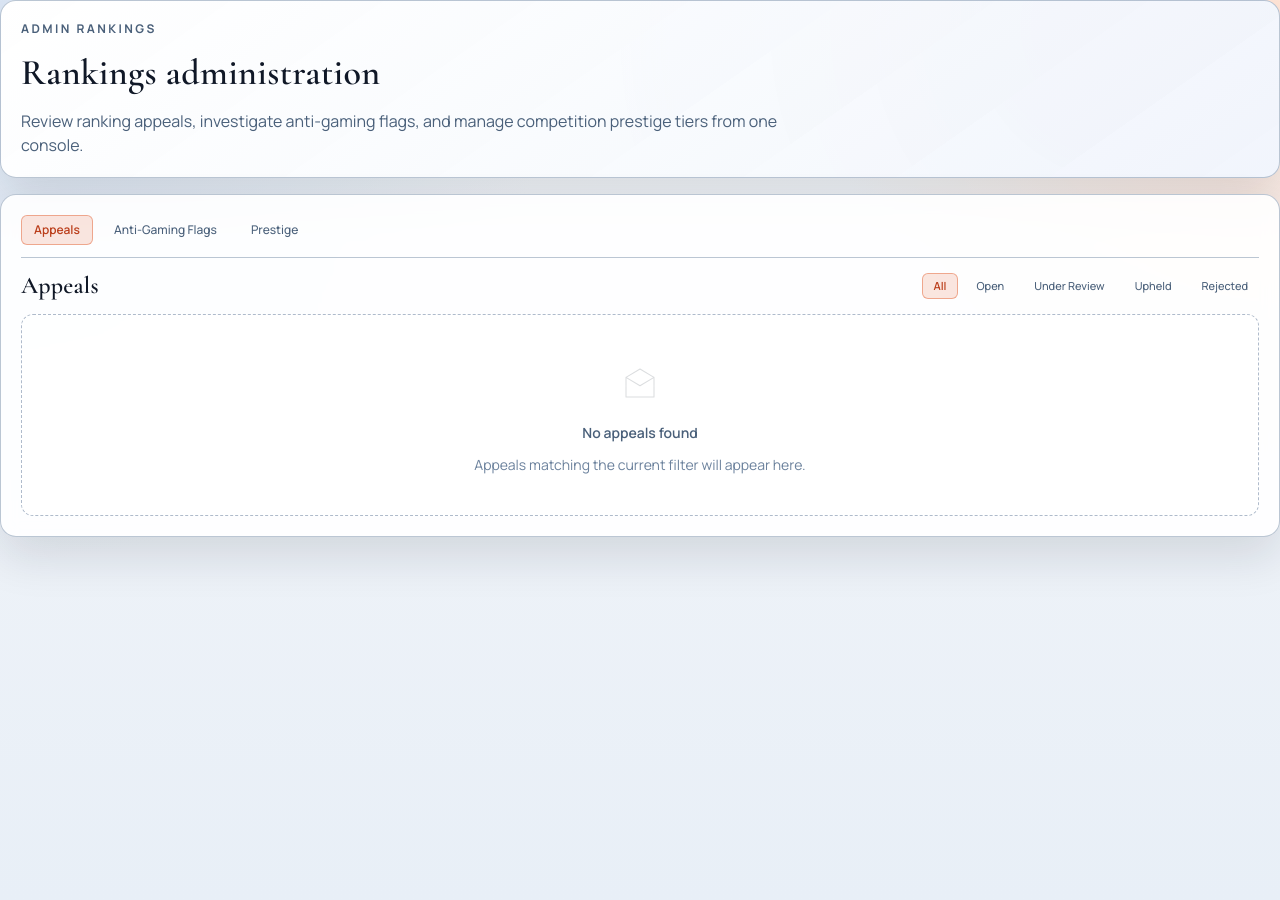
it: AdminRankingsPage › shows error toast when flag resolve fails (ApiError)
The image size is (1280, 900).
Check: the heading "Rankings administration" is shown, box [21, 51, 380, 94]
Click the button "Anti-Gaming Flags". click: (165, 230)
box: [101, 215, 230, 245]
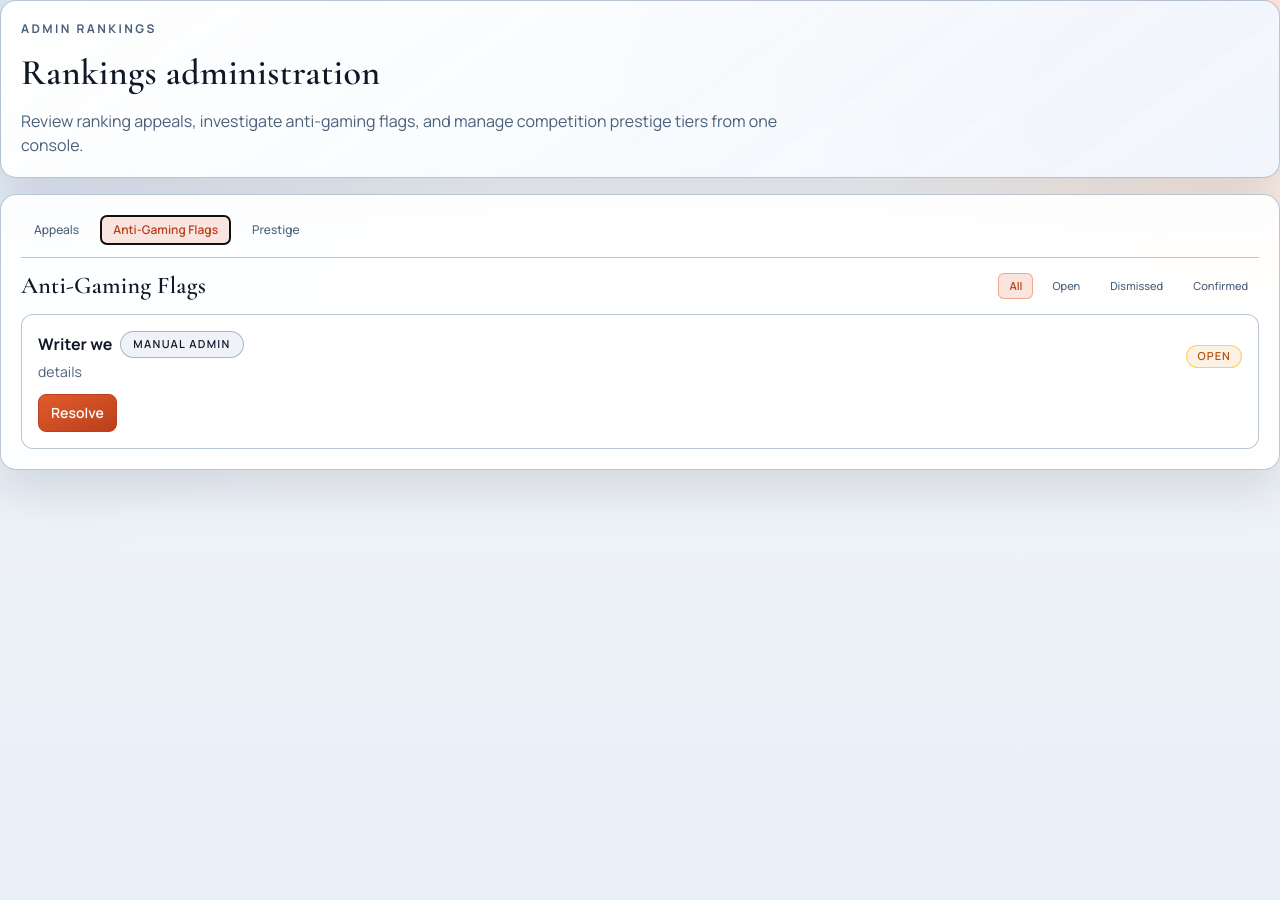
Check: the text "Manual Admin" is shown, box [120, 331, 244, 358]
Click the button "Resolve". click: (77, 412)
box: [38, 394, 117, 432]
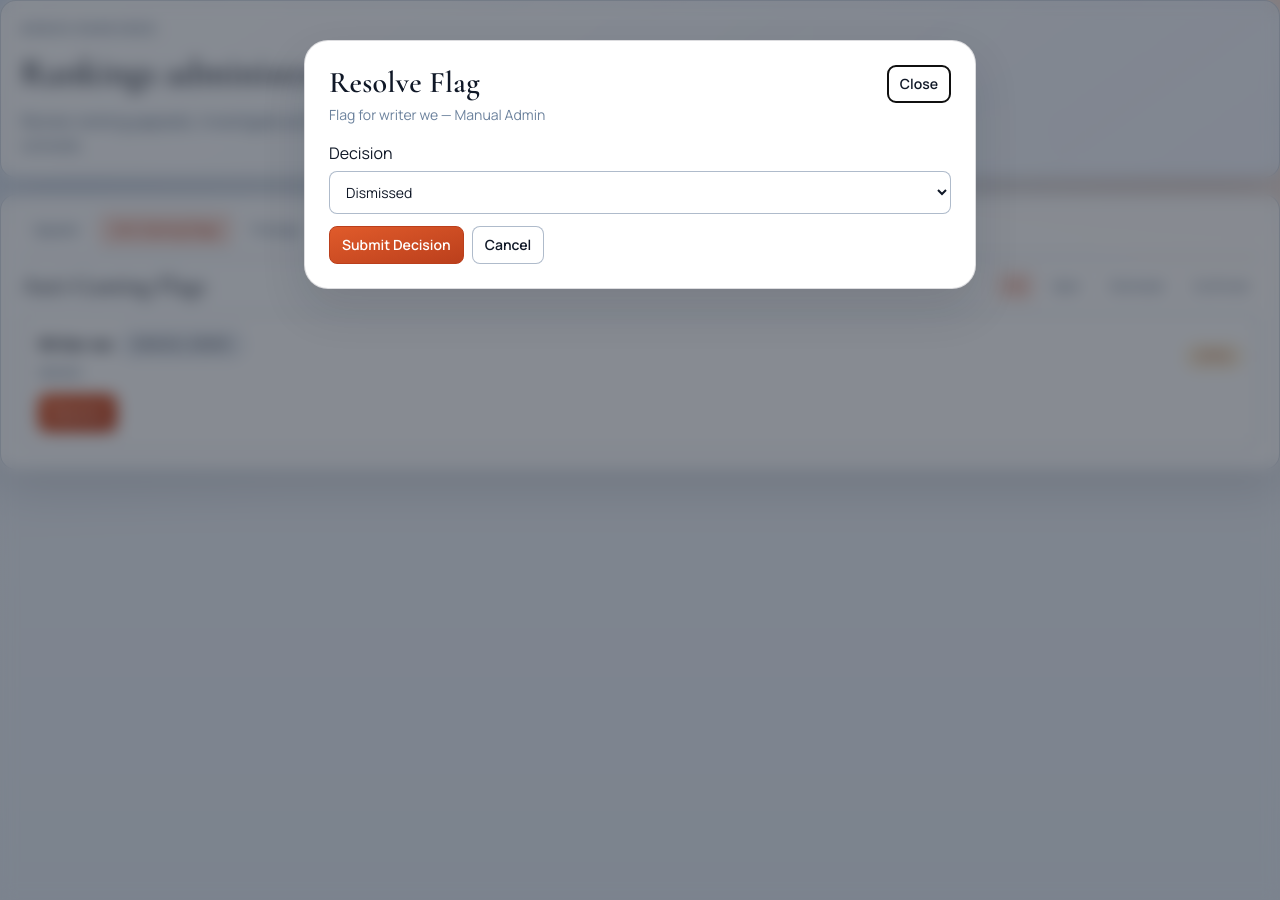
Click the button "Submit Decision". click: (396, 245)
box: [329, 226, 464, 264]
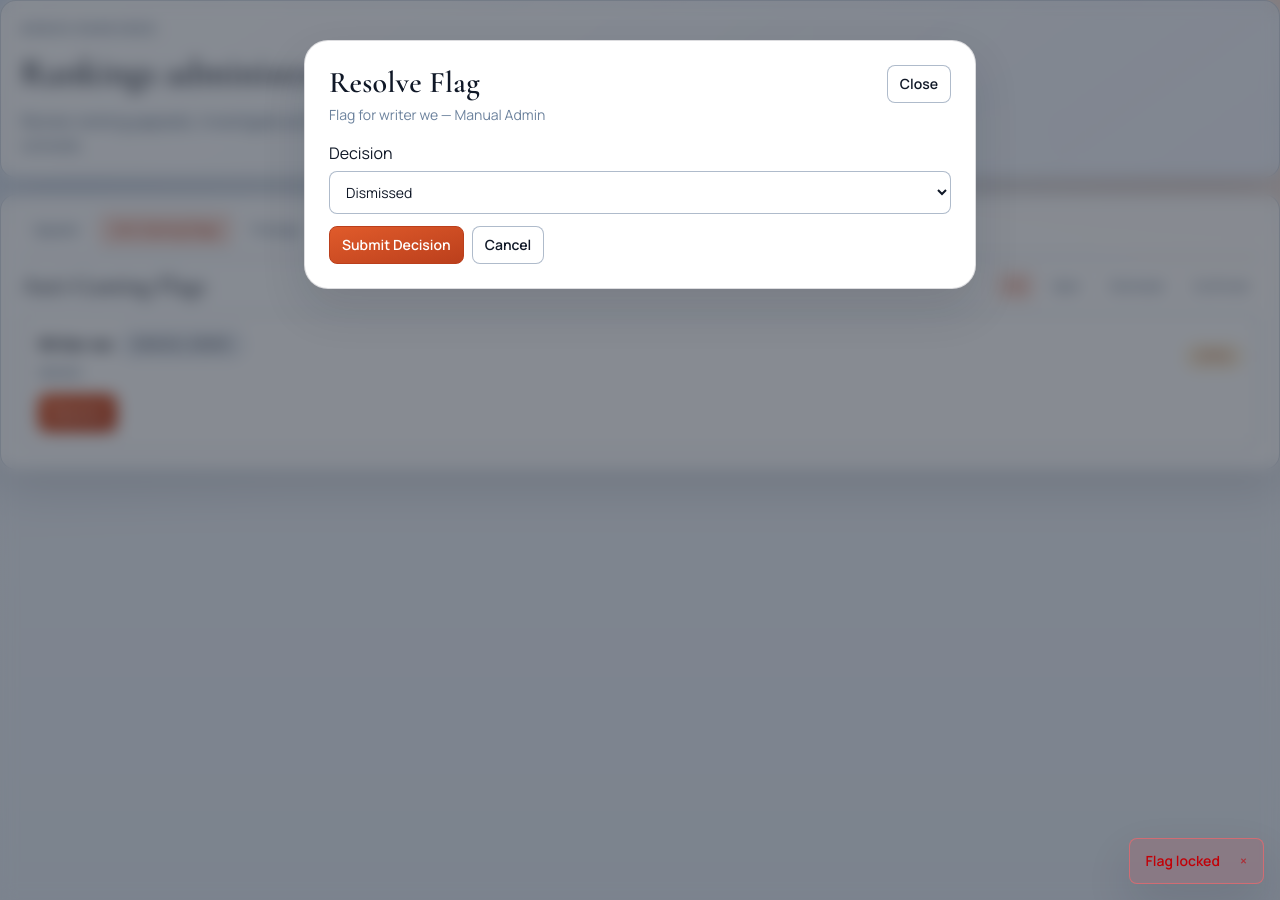
Check: the text "Flag locked" is shown, box [1146, 851, 1220, 871]
